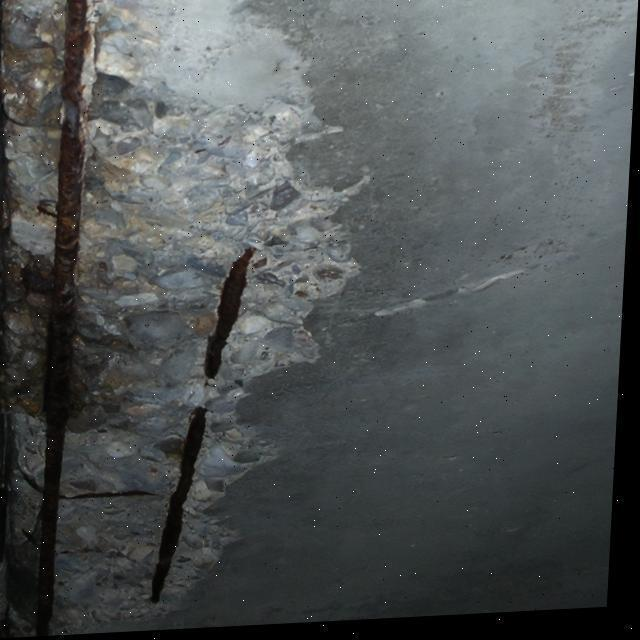D0w0: (10, 0, 349, 617)
